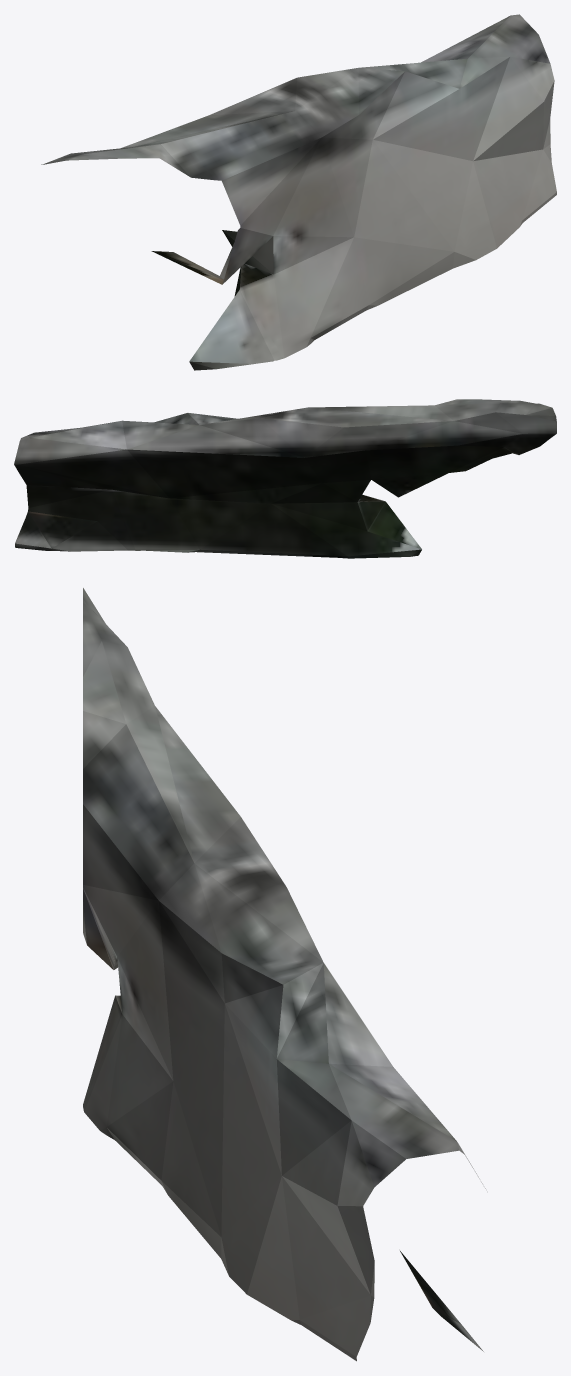
The picture shows the model from 3 angles, top to bottom: view 1: azimuth 30°, elevation 25°; view 2: azimuth 150°, elevation 25°; view 3: azimuth 270°, elevation 25°; orthographic projection. The views are drawn at different scales.
Bounding box in the file's own units: 0.793 × 0.2995 × 0.3147.
Materials: 1 (1 with a texture image).
